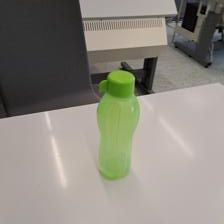bottle: (92, 67, 140, 181)
